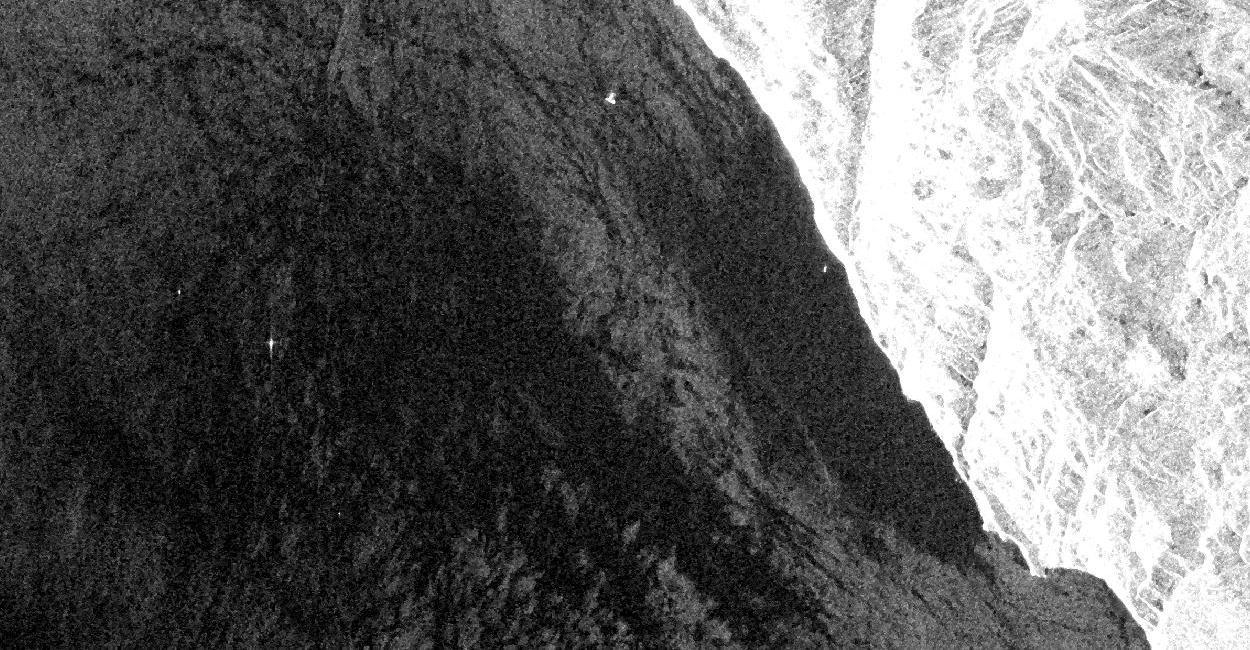Look-alike: (0, 0, 998, 650)
